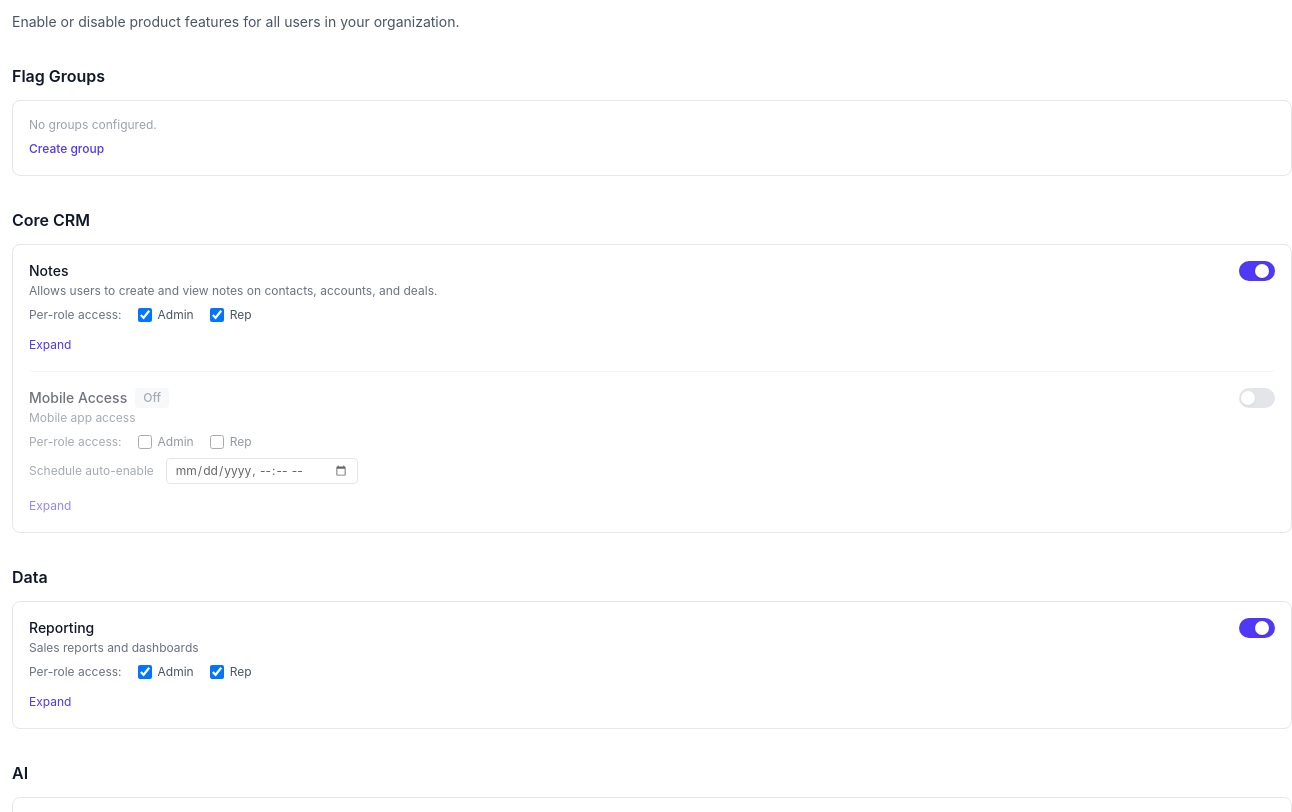
Test: FeatureFlagsSettings › shows empty beta panel with search box
Click the button with test id "feature-flag-advanced-toggle-mobile_access". click: [50, 506]
box: [29,498,71,514]
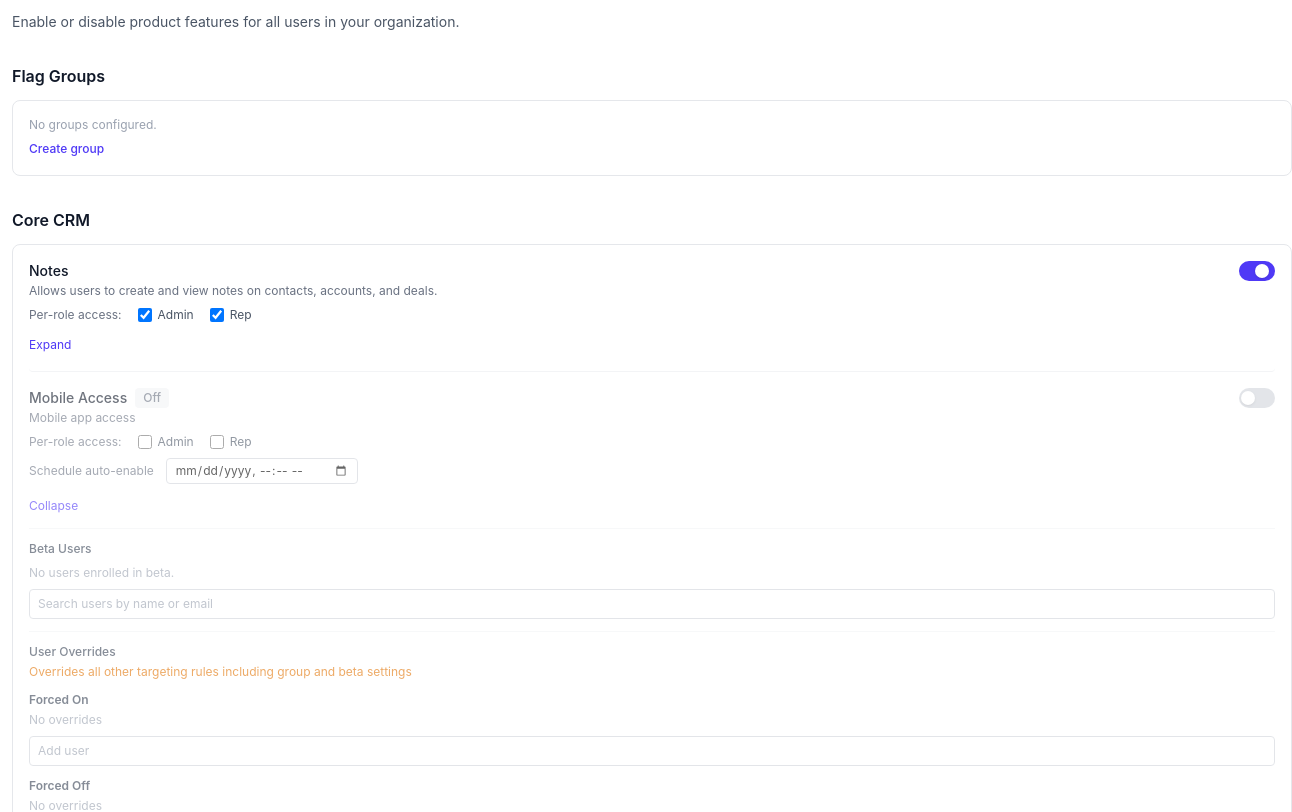
expect the search field with test id "beta-user-search-mobile_access" is shown: met, box [29,589,1275,619]
expect the element with test id "feature-flag-beta-panel-mobile_access" is shown: met, box [29,528,1275,619]
